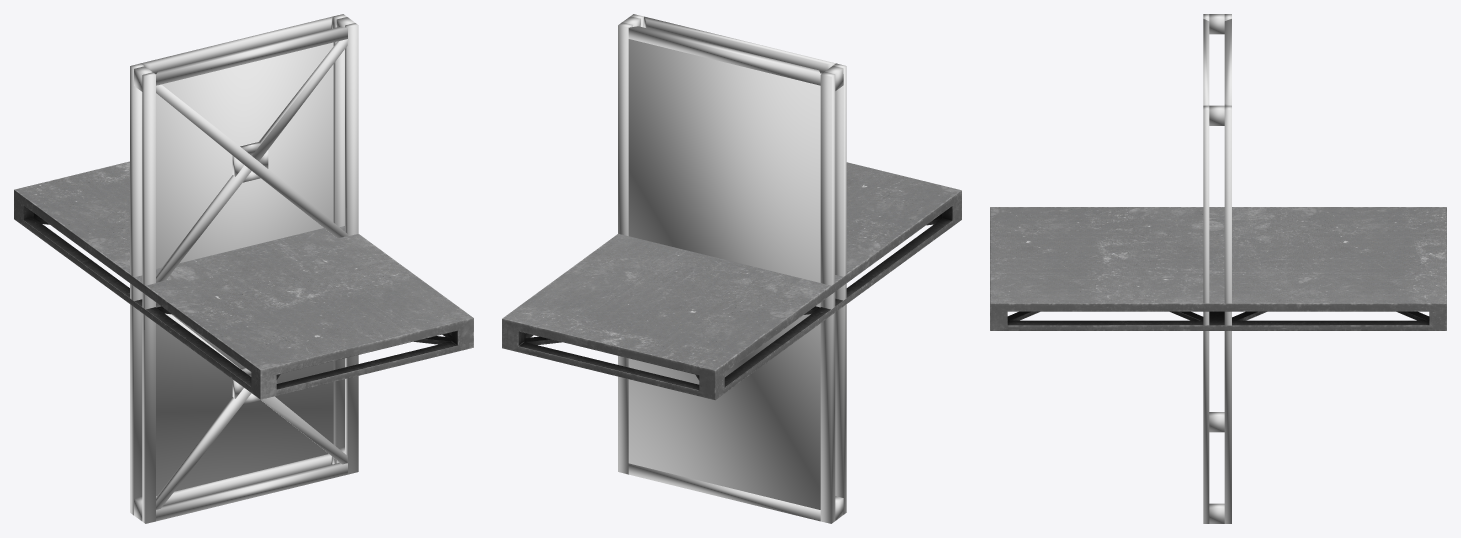
File: SM_BalconyMetal_Large.fbx
3 renders of one model, left to right at view 1: azimuth 30°, elevation 25°; view 2: azimuth 150°, elevation 25°; view 3: azimuth 270°, elevation 25°, orthographic. The views are drawn at different scales.
Visible parts, largest first — view 1: SM_BalconyMetal_Large_ConvexHulls, SM_BalconyMetal_Large; view 2: SM_BalconyMetal_Large_ConvexHulls, SM_BalconyMetal_Large; view 3: SM_BalconyMetal_Large, SM_BalconyMetal_Large_ConvexHulls.
Boxes of the visible parts, x1,y1,x2,y2 form: SM_BalconyMetal_Large_ConvexHulls: (130, 14, 358, 523); SM_BalconyMetal_Large: (14, 161, 473, 399); SM_BalconyMetal_Large_ConvexHulls: (618, 14, 846, 523); SM_BalconyMetal_Large: (502, 162, 961, 400); SM_BalconyMetal_Large: (990, 207, 1446, 330); SM_BalconyMetal_Large_ConvexHulls: (1203, 14, 1231, 523).
Size of the model in its own units: 1.5 by 3 by 3.
